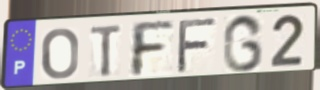2: (269, 12, 309, 70)
F: (128, 20, 176, 79), (174, 16, 220, 76)
G: (221, 12, 265, 74)
O: (40, 26, 80, 81)
T: (89, 22, 124, 79)
